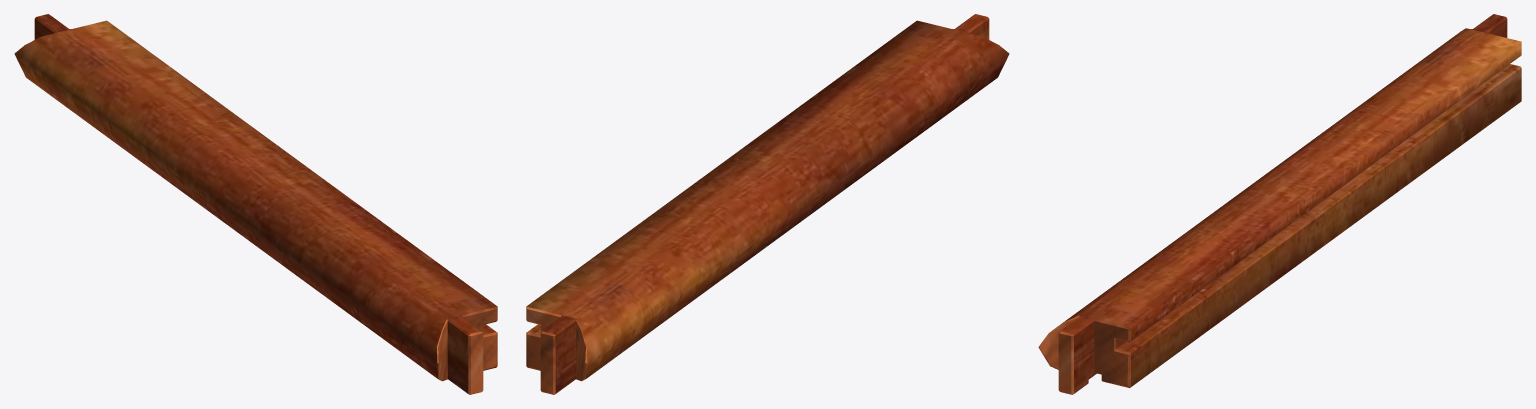
The model's file is SJ_J_dimotou_02.FBX.
3 renders of one model, left to right at view 1: azimuth 30°, elevation 25°; view 2: azimuth 150°, elevation 25°; view 3: azimuth 330°, elevation 25°, orthographic.
Parts seen in each view (by area): view 1: SJ_J_dimotou_02; view 2: SJ_J_dimotou_02; view 3: SJ_J_dimotou_02.
Boxes of the visible parts, bbox=[...] form: SJ_J_dimotou_02: bbox=[14, 14, 497, 394]; SJ_J_dimotou_02: bbox=[526, 14, 1009, 394]; SJ_J_dimotou_02: bbox=[1038, 14, 1521, 394].
Size of the model in its own units: 3.94 by 3 by 38.85.
2 materials, 2 textured.
